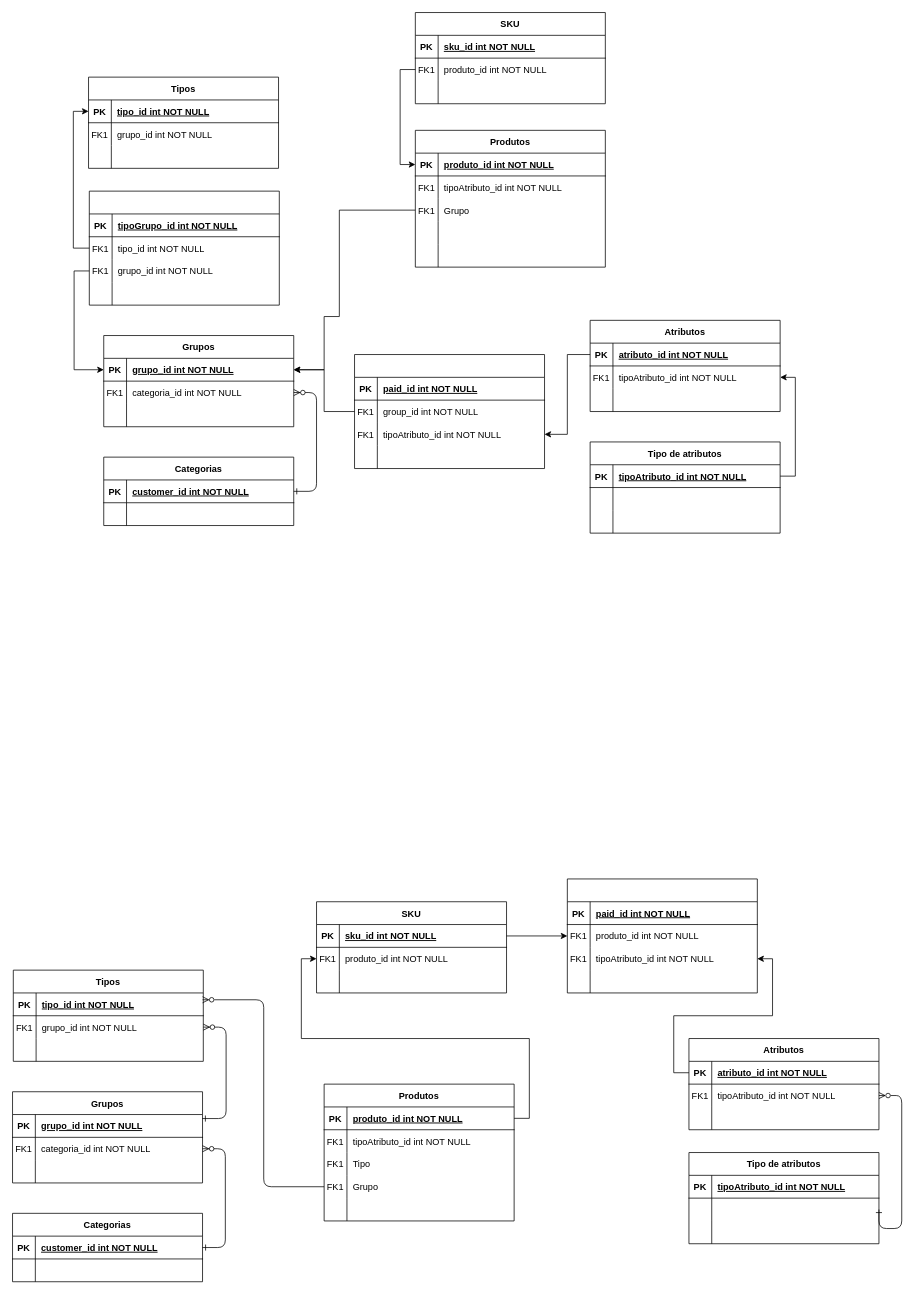
Image size: 914x1294. Some labels were removed from this diagram. Here are the shapes that lost their labels. From the top down, the box of each, then its label:
(89, 190, 279, 305): Tipos_grupo
(354, 354, 545, 469): Group_Atributos
(567, 878, 757, 993): Produto_Atributos
